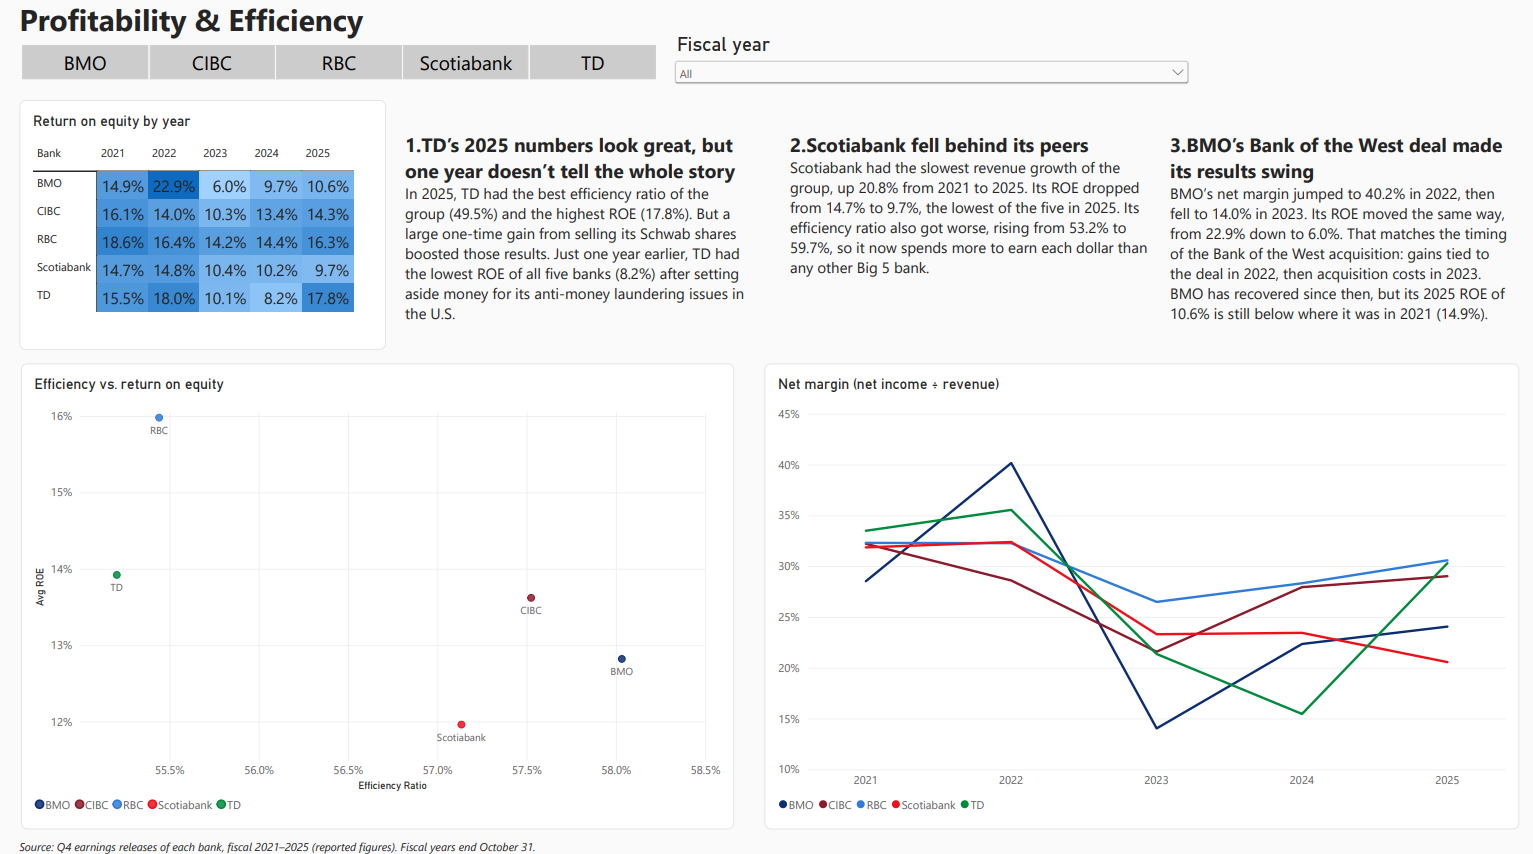

Layout of this report page (visuals, bound fields, positions):
{"tool":"powerbi","page":{"name":"Profitability & Efficiency","canvas":[1920,1080],"ordinal":1},"visuals":[{"type":"slicer","fields":{"Values":["BankData.FiscalYear"]},"box":[843.3,42.6,651.7,70.5],"z":0},{"type":"slicer","fields":{"Values":["BankData.Bank"]},"box":[12,55.9,831.3,43.9],"z":1000},{"type":"pivotTable","title":"Return on equity by year","fields":{"Columns":["BankData.FiscalYear"],"Rows":["BankData.Bank"],"Values":["BankData.Avg ROE"]},"box":[29.3,126.4,457.5,311.2],"z":2000},{"type":"scatterChart","title":"Efficiency vs. return on equity","fields":{"Category":["BankData.Bank"],"Series":["BankData.Bank"],"X":["BankData.Efficiency Ratio"],"Y":["BankData.Avg ROE"]},"box":[30.6,454.9,891.1,582.6],"z":3000},{"type":"lineChart","title":"Net margin (net income ÷ revenue)","fields":{"Category":["BankData.FiscalYear"],"Series":["BankData.Bank"],"Y":["BankData.Net Margin"]},"box":[960.3,454.9,943,582.6],"z":4000},{"type":"textbox","box":[29.3,0,637.1,55.9],"z":5000},{"type":"textbox","box":[29.3,1049.4,1139.9,30.6],"z":5001},{"type":"textbox","box":[510.7,164.9,429.6,272.7],"z":5002},{"type":"textbox","box":[992.2,164.9,460.2,272.7],"z":5003},{"type":"textbox","box":[1467,164.9,421.6,272.7],"z":5004}]}

Visuals, with their boxes in screenshot pixels (x1, y1, x2, y2), scaled from the page's 1920x1080 canvas onto the 1533x854 screenshot:
slicer - BankData.FiscalYear: locate(673, 34, 1194, 89)
slicer - BankData.Bank: locate(10, 44, 673, 79)
"Return on equity by year" pivotTable: locate(23, 100, 389, 346)
"Efficiency vs. return on equity" scatterChart: locate(24, 360, 736, 820)
"Net margin (net income ÷ revenue)" lineChart: locate(767, 360, 1520, 820)
textbox: locate(23, 0, 532, 44)
textbox: locate(23, 830, 934, 853)
textbox: locate(408, 130, 751, 346)
textbox: locate(792, 130, 1160, 346)
textbox: locate(1171, 130, 1508, 346)
